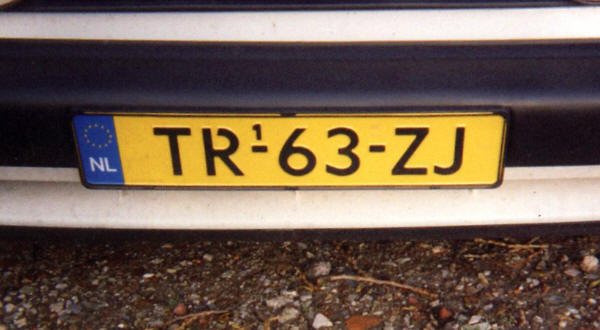license_plate: (71, 110, 508, 189)
